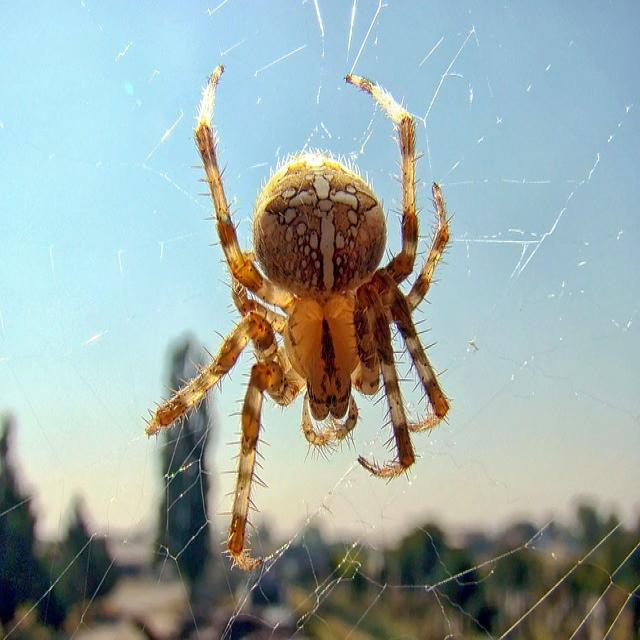spyder: (145, 80, 451, 561)
